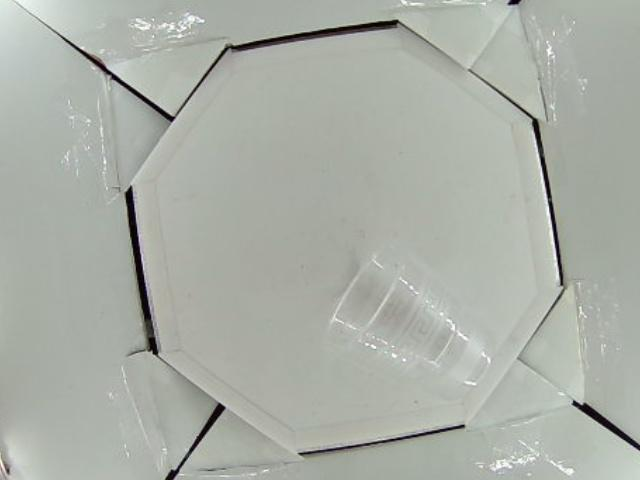Cup: (321, 234, 491, 390)
